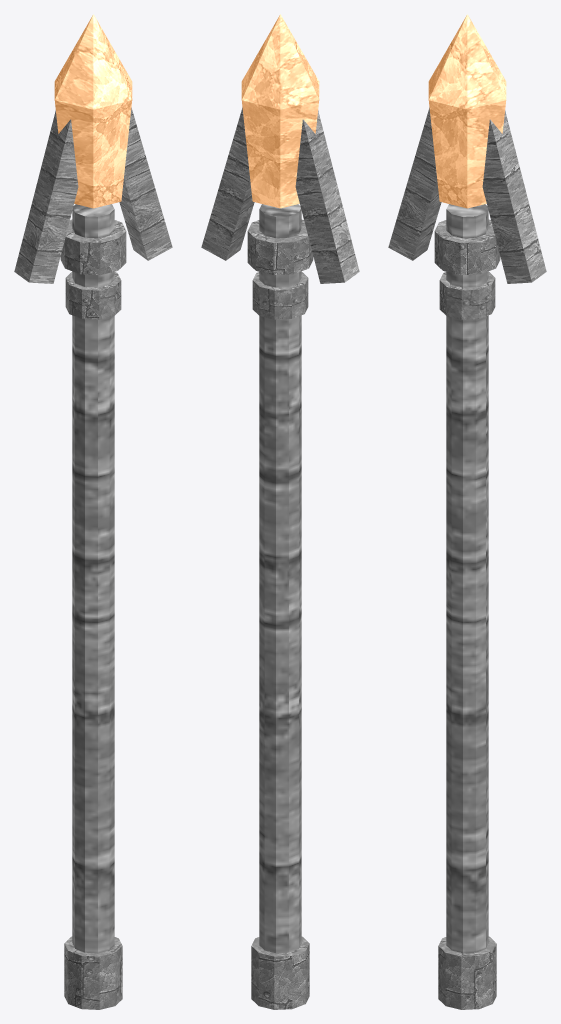
File: Magenheim_Staff_Fire_Simple.glb
3 renders of one model, left to right at view 1: azimuth 30°, elevation 25°; view 2: azimuth 150°, elevation 25°; view 3: azimuth 330°, elevation 25°, orthographic.
Parts seen in each view (by area): view 1: shaft, ember-focus, left-fork, right-fork, pommel, fork-band, neck-band; view 2: shaft, ember-focus, left-fork, right-fork, pommel, fork-band, neck-band; view 3: shaft, ember-focus, right-fork, left-fork, pommel, fork-band, neck-band.
Part boxes in pixels (x1,y1,x2,y2): shaft: (72, 204, 114, 953); ember-focus: (54, 14, 132, 208); left-fork: (14, 110, 78, 283); right-fork: (119, 107, 172, 260); pommel: (64, 936, 122, 1009); fork-band: (60, 219, 126, 275); neck-band: (65, 272, 121, 319); shaft: (259, 204, 301, 953); ember-focus: (241, 14, 319, 208); left-fork: (295, 110, 359, 283); right-fork: (201, 107, 254, 260); pommel: (251, 936, 309, 1009); fork-band: (247, 219, 313, 275); neck-band: (252, 272, 308, 319); shaft: (446, 204, 488, 953); ember-focus: (428, 14, 506, 208); right-fork: (482, 110, 546, 283); left-fork: (388, 107, 441, 260); pommel: (438, 936, 496, 1009); fork-band: (434, 219, 500, 275); neck-band: (439, 272, 495, 319).
Size of the model in its own units: 0.2818 by 1.84 by 0.1316.
Materials: 3 (3 with a texture image).
